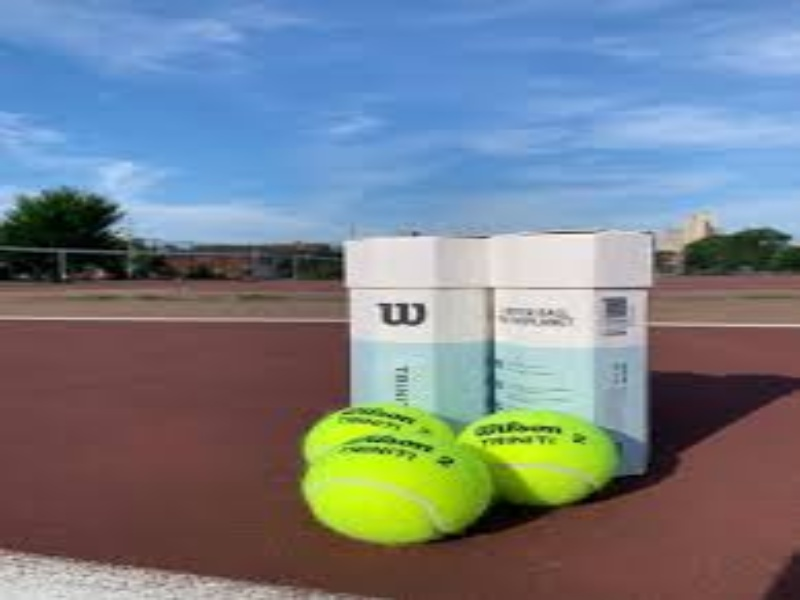tennis ball: (307, 433, 490, 535), (465, 412, 623, 507), (305, 393, 466, 476)
